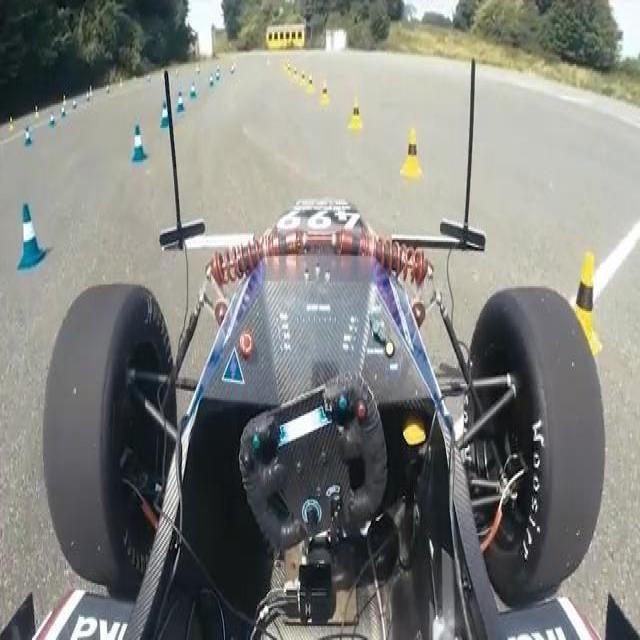blue_cone: (5, 185, 56, 268), (121, 109, 165, 172)
yellow_cone: (554, 247, 610, 350), (390, 119, 437, 210), (347, 91, 361, 171), (316, 80, 330, 106)
